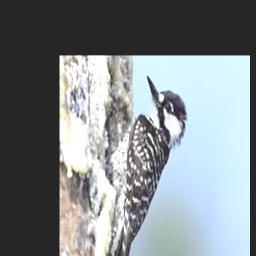Woodpecker: (83, 68, 188, 256)
